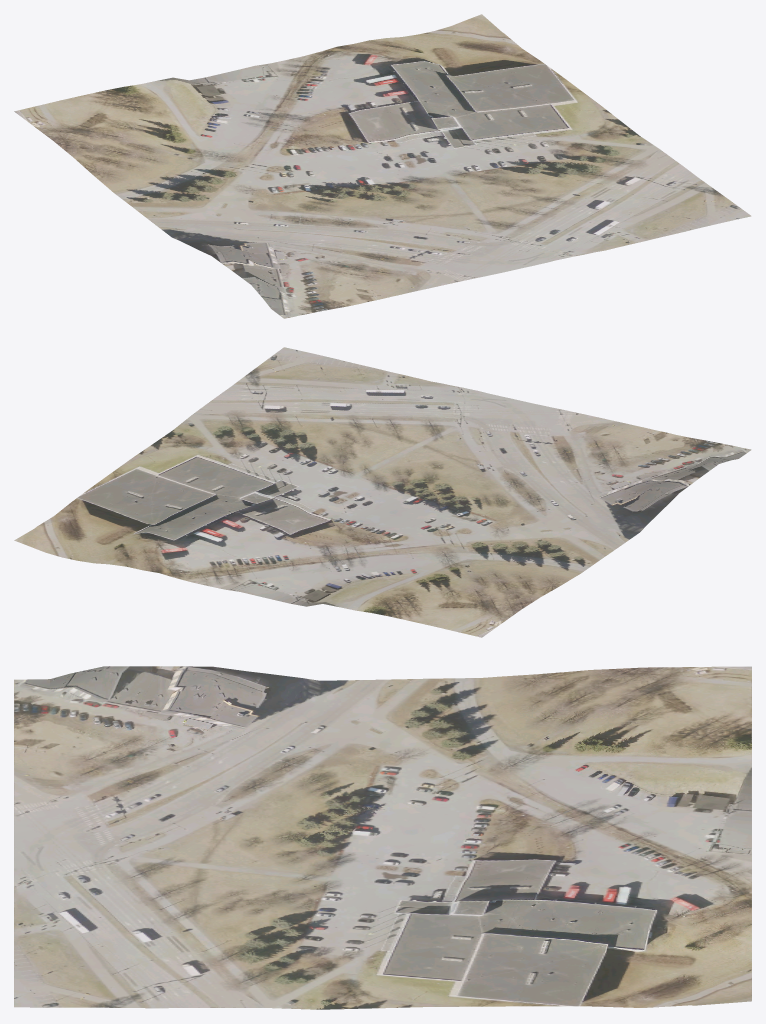
Rendered from CM_Terrain_24490254_6820408.fbx.
3 renders of one model, top to bottom at view 1: azimuth 30°, elevation 25°; view 2: azimuth 150°, elevation 25°; view 3: azimuth 270°, elevation 25°, orthographic. The views are drawn at different scales.
Visible parts, largest first — view 1: CM_Terrain_24490254_6820408_LOD0; view 2: CM_Terrain_24490254_6820408_LOD0; view 3: CM_Terrain_24490254_6820408_LOD0.
Part boxes in pixels (x1,y1,x2,y2): CM_Terrain_24490254_6820408_LOD0: [14, 14, 751, 318]; CM_Terrain_24490254_6820408_LOD0: [14, 347, 751, 637]; CM_Terrain_24490254_6820408_LOD0: [14, 666, 751, 1009].
Size of what is drawn, in the model's own units: 205 by 9.8 by 205.
